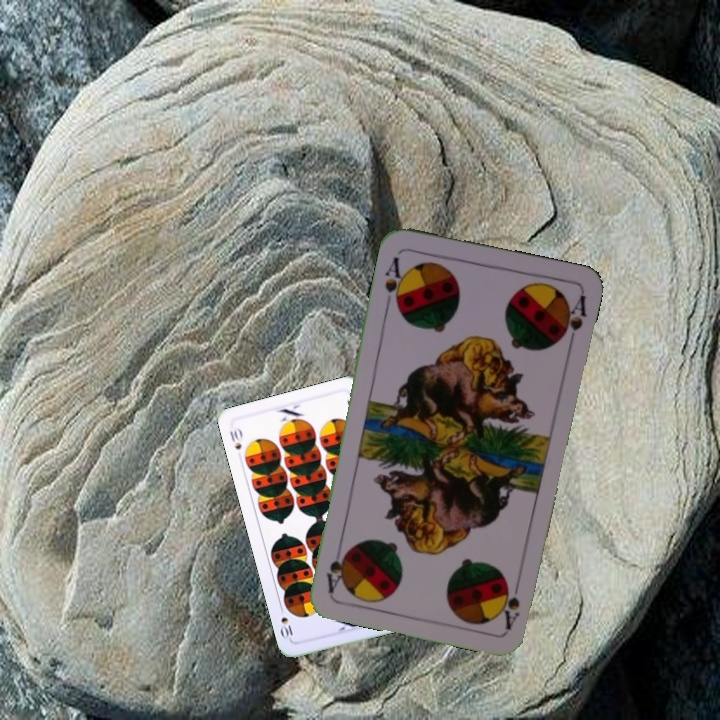S10: (226, 424, 245, 452)
SA: (380, 252, 409, 311), (497, 573, 523, 632)
